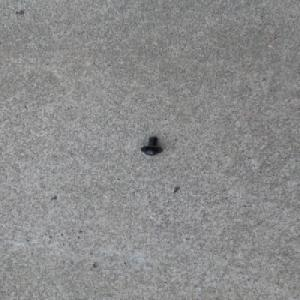BoltWasher: (140, 136, 163, 156)
